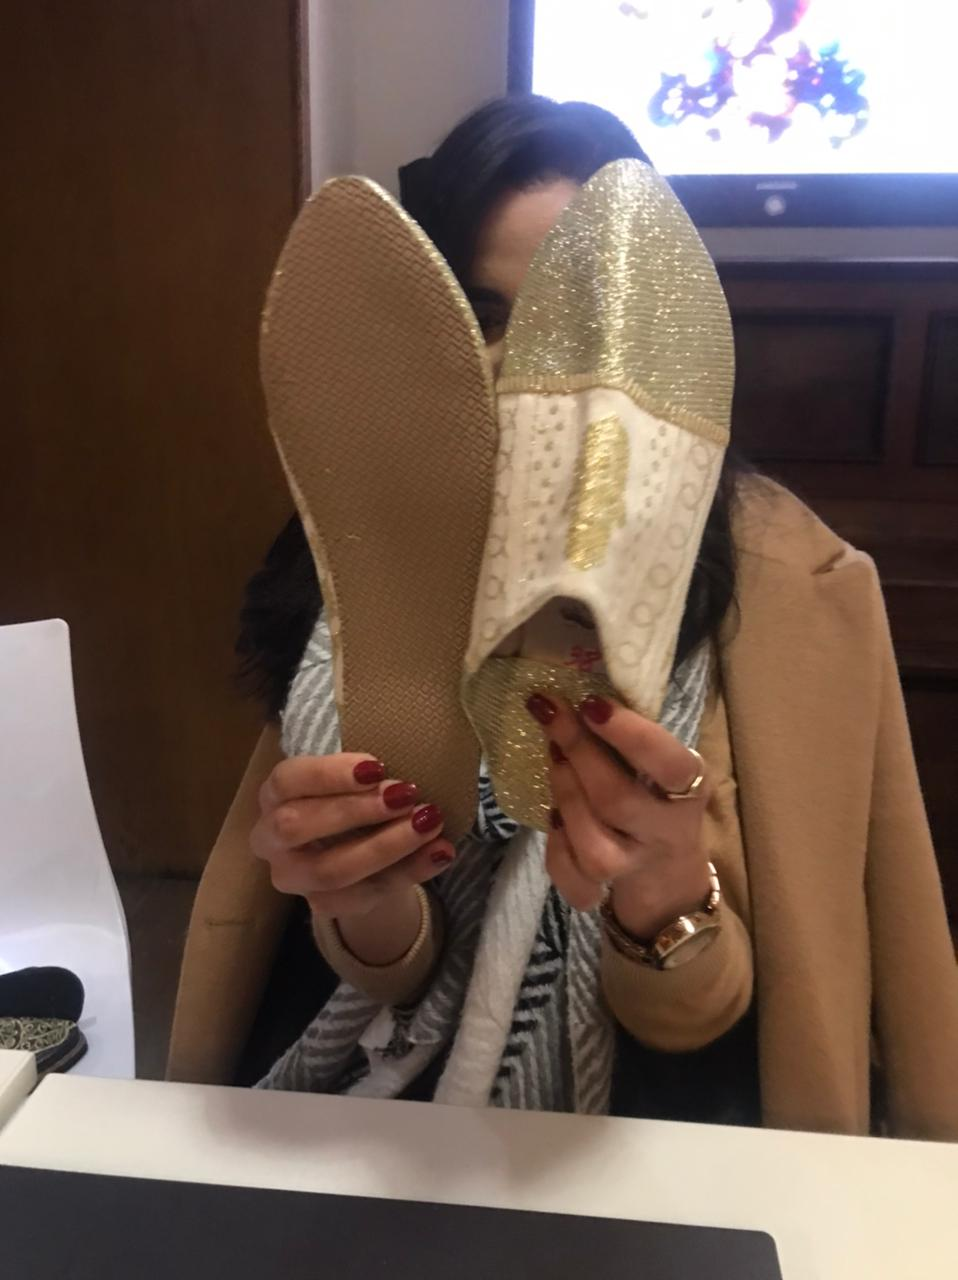balgha: (211, 96, 814, 888)
